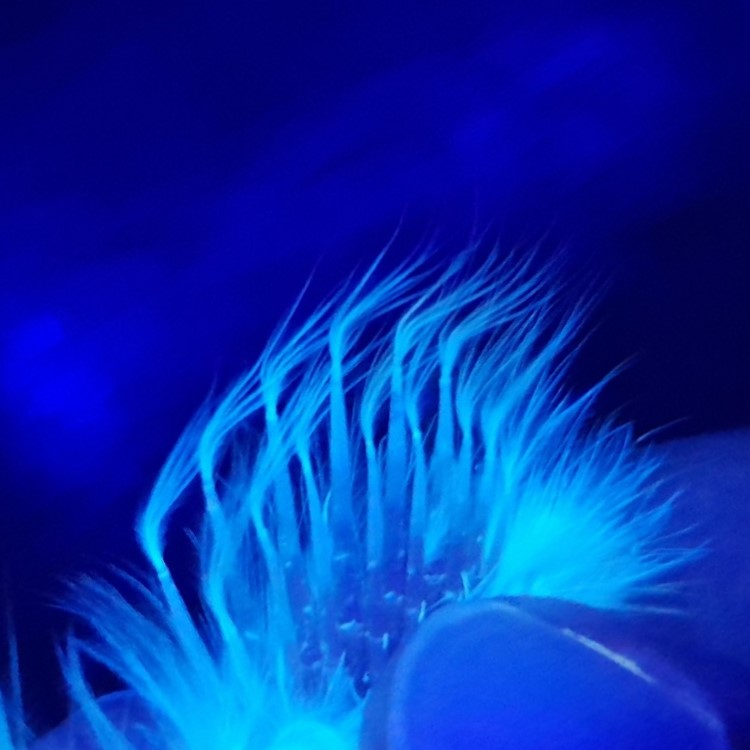female: (195, 326, 519, 674)
